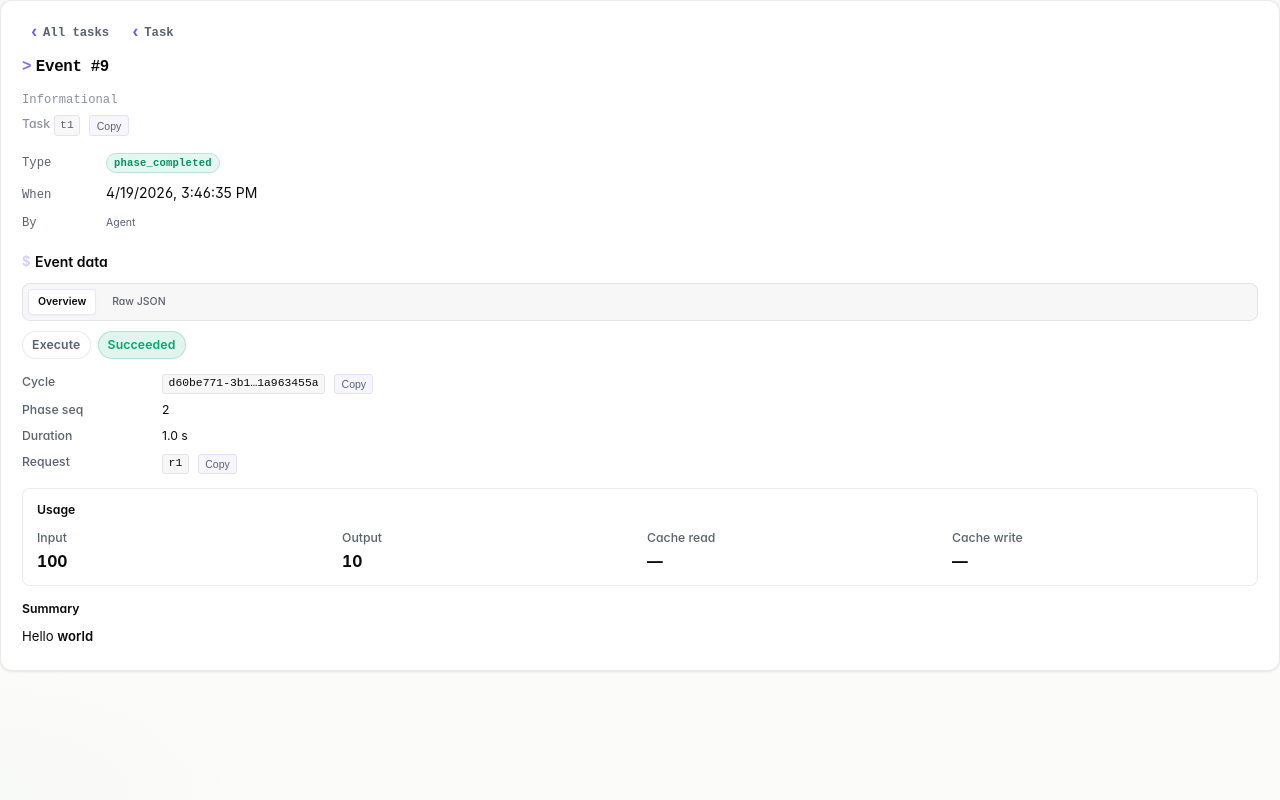
Test: TaskEventDetailPage › shows Overview tab and usage for phase_completed events
This screenshot has width=1280, height=800.
Check: the text "execute" is shown, box [22,331,90,359]
Check: the text "succeeded" is shown, box [98,331,186,359]
What coordinates should you click on to do the following:
click the tab "Raw JSON"
I would click on:
 (139, 302)
Its box is [102,289,176,315].
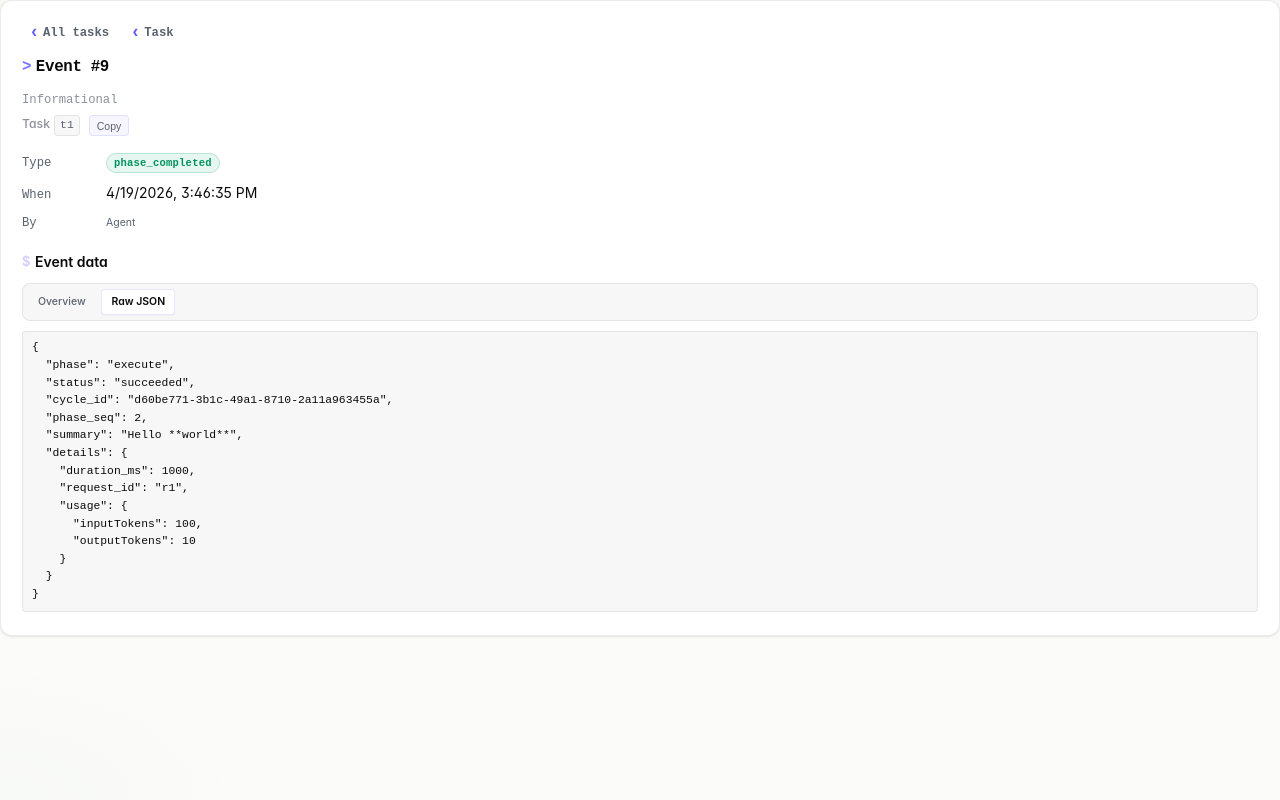
Check: the text "\"phase\"" is shown, box [32,341,393,600]
